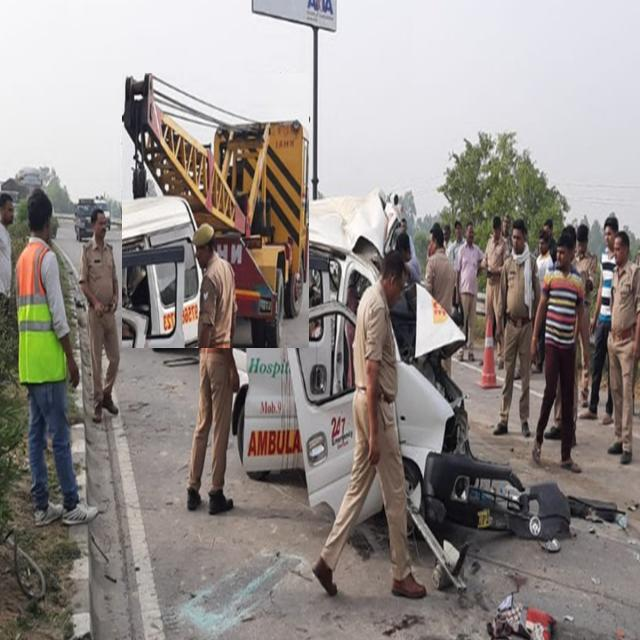accident: (231, 189, 569, 589)
truck: (122, 74, 309, 348)
